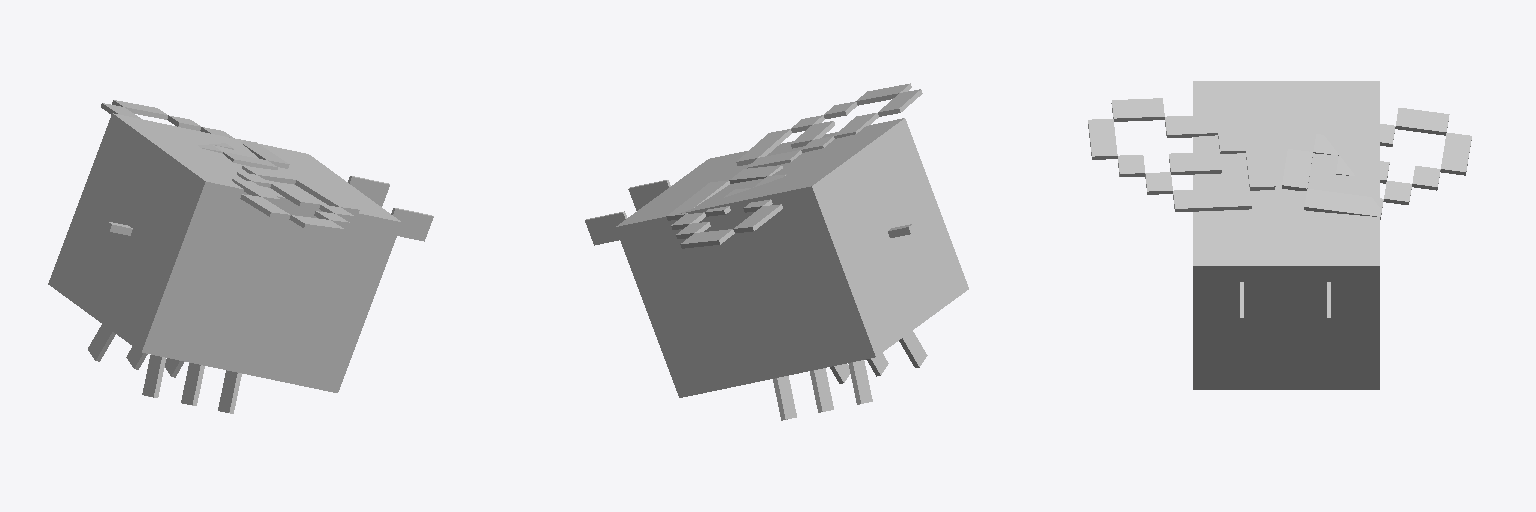
Rendered from Bee_ (97).obj.
The picture shows the model from 3 angles: view 1: azimuth 30°, elevation 25°; view 2: azimuth 150°, elevation 25°; view 3: azimuth 270°, elevation 25°; orthographic projection.
Visible parts, largest first — view 1: b_Bee_MAT_0, l_Bee_MAT_0, r_Bee_MAT_0; view 2: b_Bee_MAT_0, l_Bee_MAT_0, r_Bee_MAT_0; view 3: b_Bee_MAT_0, l_Bee_MAT_0, r_Bee_MAT_0.
Part boxes in pixels (left/top/right/bottom): b_Bee_MAT_0: left=48, top=113, right=433, bottom=413; l_Bee_MAT_0: left=232, top=166, right=359, bottom=233; r_Bee_MAT_0: left=101, top=100, right=289, bottom=169; b_Bee_MAT_0: left=585, top=118, right=968, bottom=420; l_Bee_MAT_0: left=736, top=83, right=922, bottom=168; r_Bee_MAT_0: left=666, top=165, right=786, bottom=248; b_Bee_MAT_0: left=1193, top=81, right=1379, bottom=389; l_Bee_MAT_0: left=1088, top=98, right=1275, bottom=211; r_Bee_MAT_0: left=1282, top=108, right=1471, bottom=219.
Bounding box in the file's own units: 0.3066 × 0.2397 × 0.323.